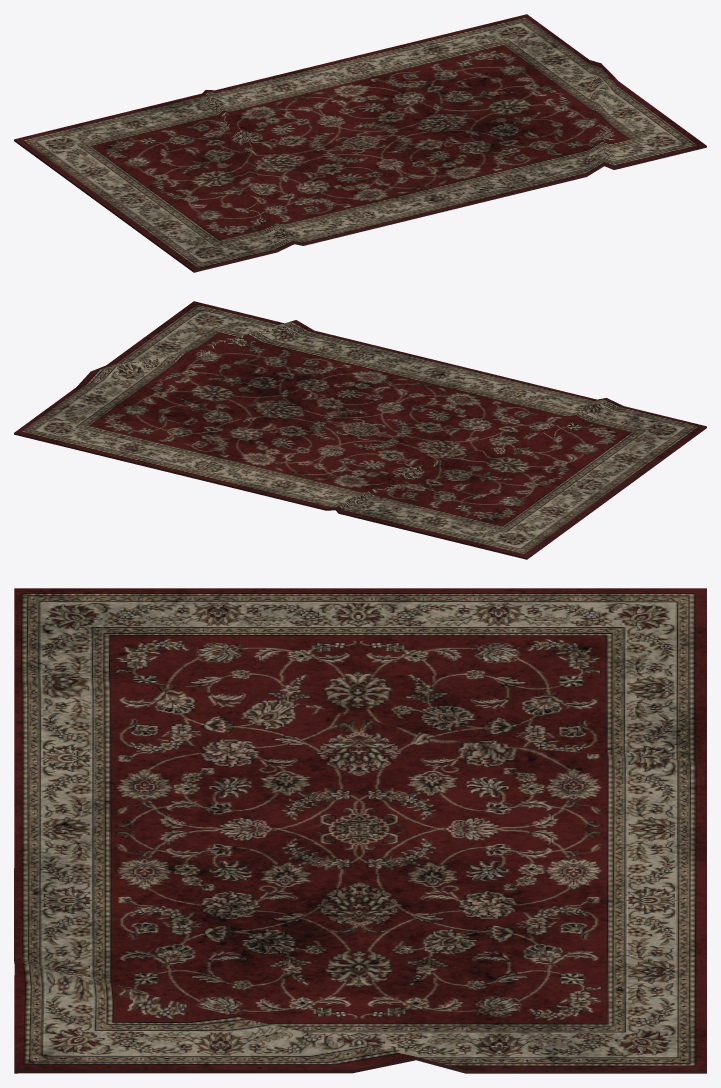
The model's file is Carpet_2.fbx.
3 renders of one model, top to bottom at view 1: azimuth 30°, elevation 25°; view 2: azimuth 150°, elevation 25°; view 3: azimuth 270°, elevation 25°, orthographic. The views are drawn at different scales.
Visible parts, largest first — view 1: Carpet_Sketchfab_SM_Carpet_02_LOD0; view 2: Carpet_Sketchfab_SM_Carpet_02_LOD0; view 3: Carpet_Sketchfab_SM_Carpet_02_LOD0.
Boxes of the visible parts, x1,y1,x2,y2 form: Carpet_Sketchfab_SM_Carpet_02_LOD0: (14,14,706,272); Carpet_Sketchfab_SM_Carpet_02_LOD0: (14,301,706,559); Carpet_Sketchfab_SM_Carpet_02_LOD0: (14,588,706,1073).
Bounding box in the file's own units: 889 × 13.42 × 540.
